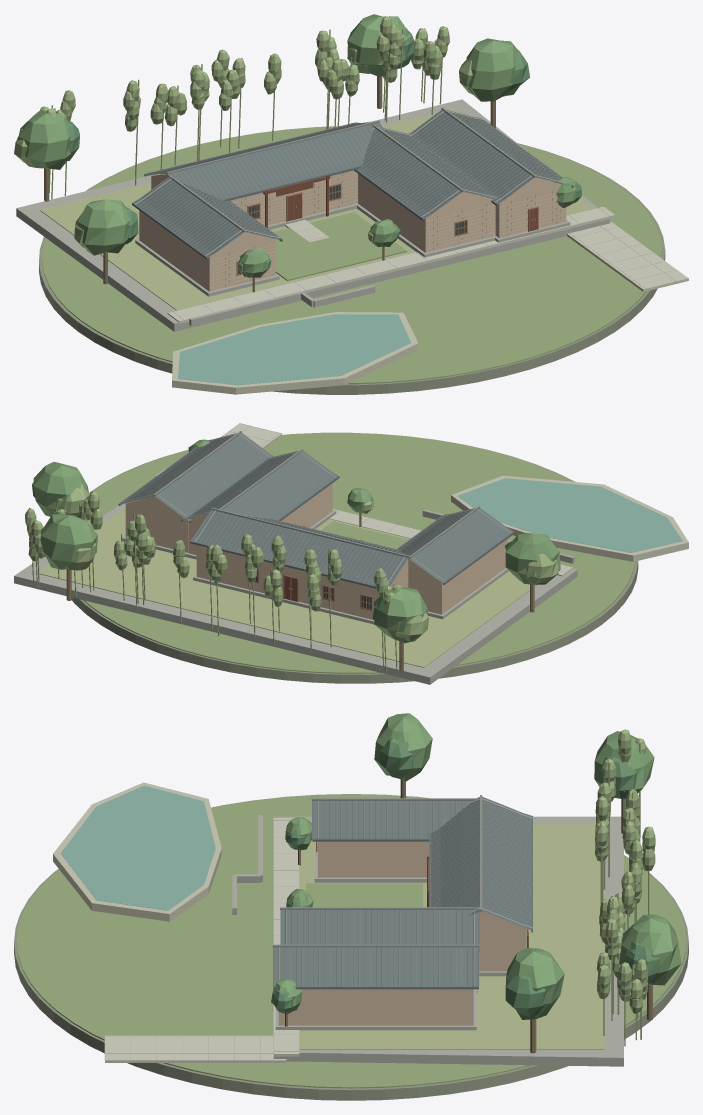
Rendered from guangjiatang.glb.
3 views of the same model, one above another, from view 1: azimuth 30°, elevation 25°; view 2: azimuth 150°, elevation 25°; view 3: azimuth 270°, elevation 25° (orthographic). The views are drawn at different scales.
Visible parts, largest first — view 1: landscape_grass, roofs_roof, architecture_bricklight, landscape_water, vegetation_leaf, vegetation_leaflight, roofs_tile, landscape_stone, landscape_paving, landscape_grasslight, landscape_earth, landscape_edge (+9 smaller); view 2: landscape_grass, roofs_roof, landscape_grasslight, architecture_bricklight, landscape_stone, landscape_water, vegetation_leaflight, roofs_tile, vegetation_leaf, landscape_earth, landscape_edge, roofs_ridge (+5 smaller); view 3: landscape_grass, roofs_roof, landscape_grasslight, landscape_water, architecture_bricklight, vegetation_leaf, roofs_tile, landscape_stone, landscape_earth, vegetation_leaflight, landscape_paving, vegetation_leafdark (+6 smaller).
Part boxes in pixels (box(x1,y1,x2,y2)): landscape_grass: box(42, 126, 661, 384); roofs_roof: box(132, 110, 573, 259); architecture_bricklight: box(139, 170, 566, 291); landscape_water: box(178, 314, 411, 385); vegetation_leaf: box(18, 14, 578, 277); vegetation_leaflight: box(14, 16, 474, 276); roofs_tile: box(132, 109, 572, 257); landscape_stone: box(16, 99, 610, 331); landscape_paving: box(167, 206, 688, 323); landscape_grasslight: box(40, 108, 592, 310); landscape_earth: box(39, 143, 665, 394); landscape_edge: box(172, 312, 418, 394); landscape_grass: box(84, 432, 634, 673); roofs_roof: box(118, 433, 514, 588); landscape_grasslight: box(37, 507, 537, 667); architecture_bricklight: box(125, 483, 507, 619); landscape_stone: box(14, 503, 577, 684); landscape_water: box(457, 478, 682, 552); vegetation_leaflight: box(25, 483, 558, 641); roofs_tile: box(119, 433, 513, 586); vegetation_leaf: box(33, 439, 560, 643); landscape_earth: box(71, 432, 638, 683); landscape_edge: box(451, 475, 688, 561); roofs_ridge: box(121, 431, 511, 582); landscape_grass: box(16, 794, 686, 1088); roofs_roof: box(273, 797, 532, 989); landscape_grasslight: box(299, 824, 604, 1049); landscape_water: box(60, 785, 215, 910); architecture_bricklight: box(278, 841, 526, 1025); vegetation_leaf: box(271, 713, 681, 1019); roofs_tile: box(273, 797, 532, 986); landscape_stone: box(232, 815, 623, 1066); landscape_earth: box(14, 794, 688, 1100); vegetation_leaflight: box(595, 729, 655, 1013); landscape_paving: box(105, 818, 299, 1062); vegetation_leafdark: box(273, 738, 660, 1017).
Size of the model in its own units: 54 by 11.81 by 52.
